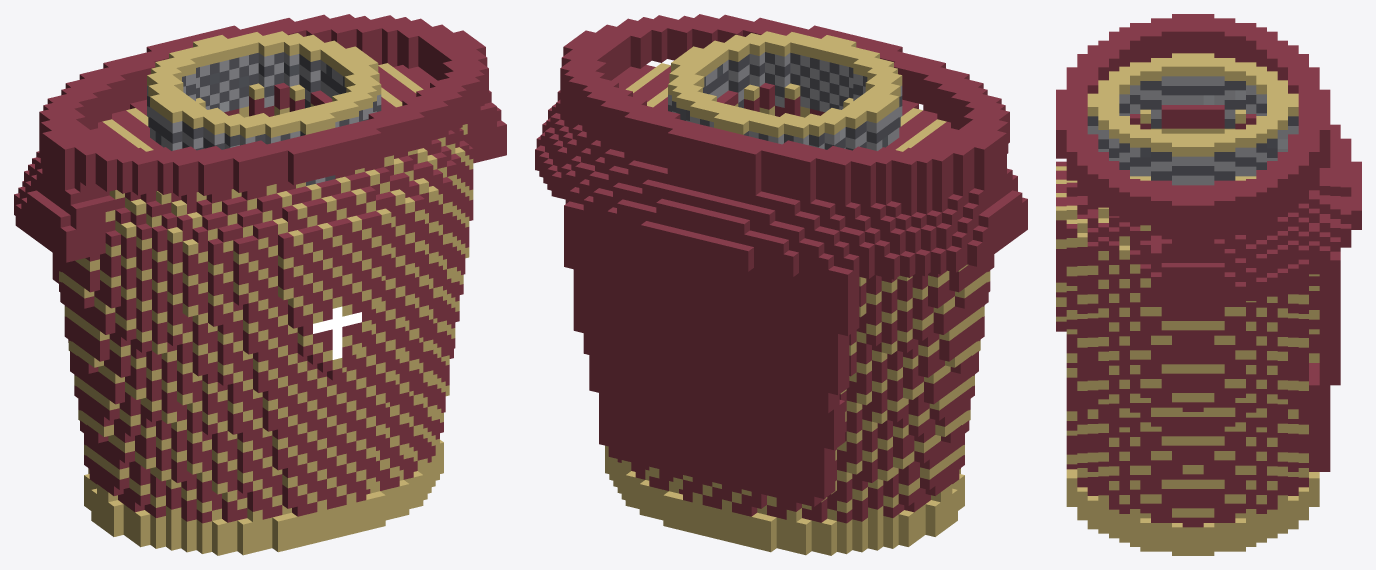
The model's file is chain_epic_chest.glb.
3 views of the same model, side by side, from view 1: azimuth 30°, elevation 25°; view 2: azimuth 150°, elevation 25°; view 3: azimuth 270°, elevation 25° (orthographic). The views are drawn at different scales.
Parts seen in each view (by area): view 1: chain_epic_chest; view 2: chain_epic_chest; view 3: chain_epic_chest.
Boxes of the visible parts, x1=… form: chain_epic_chest: x1=14, y1=14, x2=506, y2=555; chain_epic_chest: x1=535, y1=14, x2=1027, y2=555; chain_epic_chest: x1=1056, y1=14, x2=1361, y2=555.
Size of the model in its own units: 0.54 by 0.48 by 0.348.
